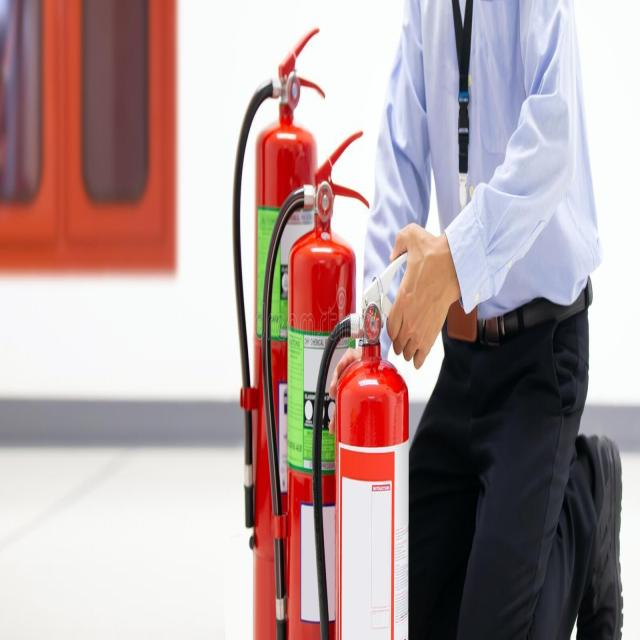fire_extinguisher: (231, 24, 328, 639), (261, 126, 370, 639), (310, 243, 430, 639)
